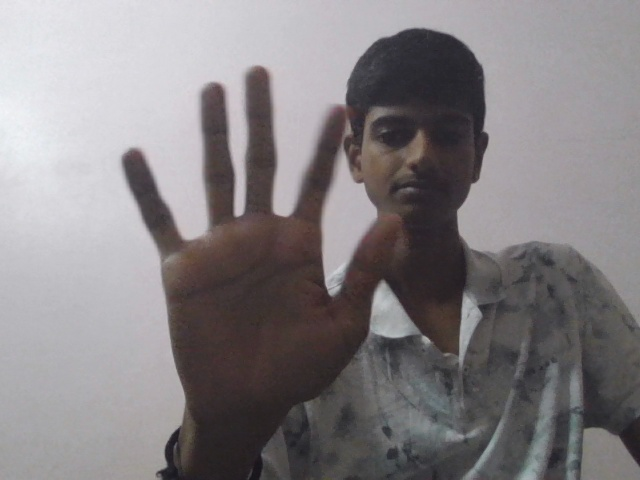hello: (117, 52, 403, 473)
